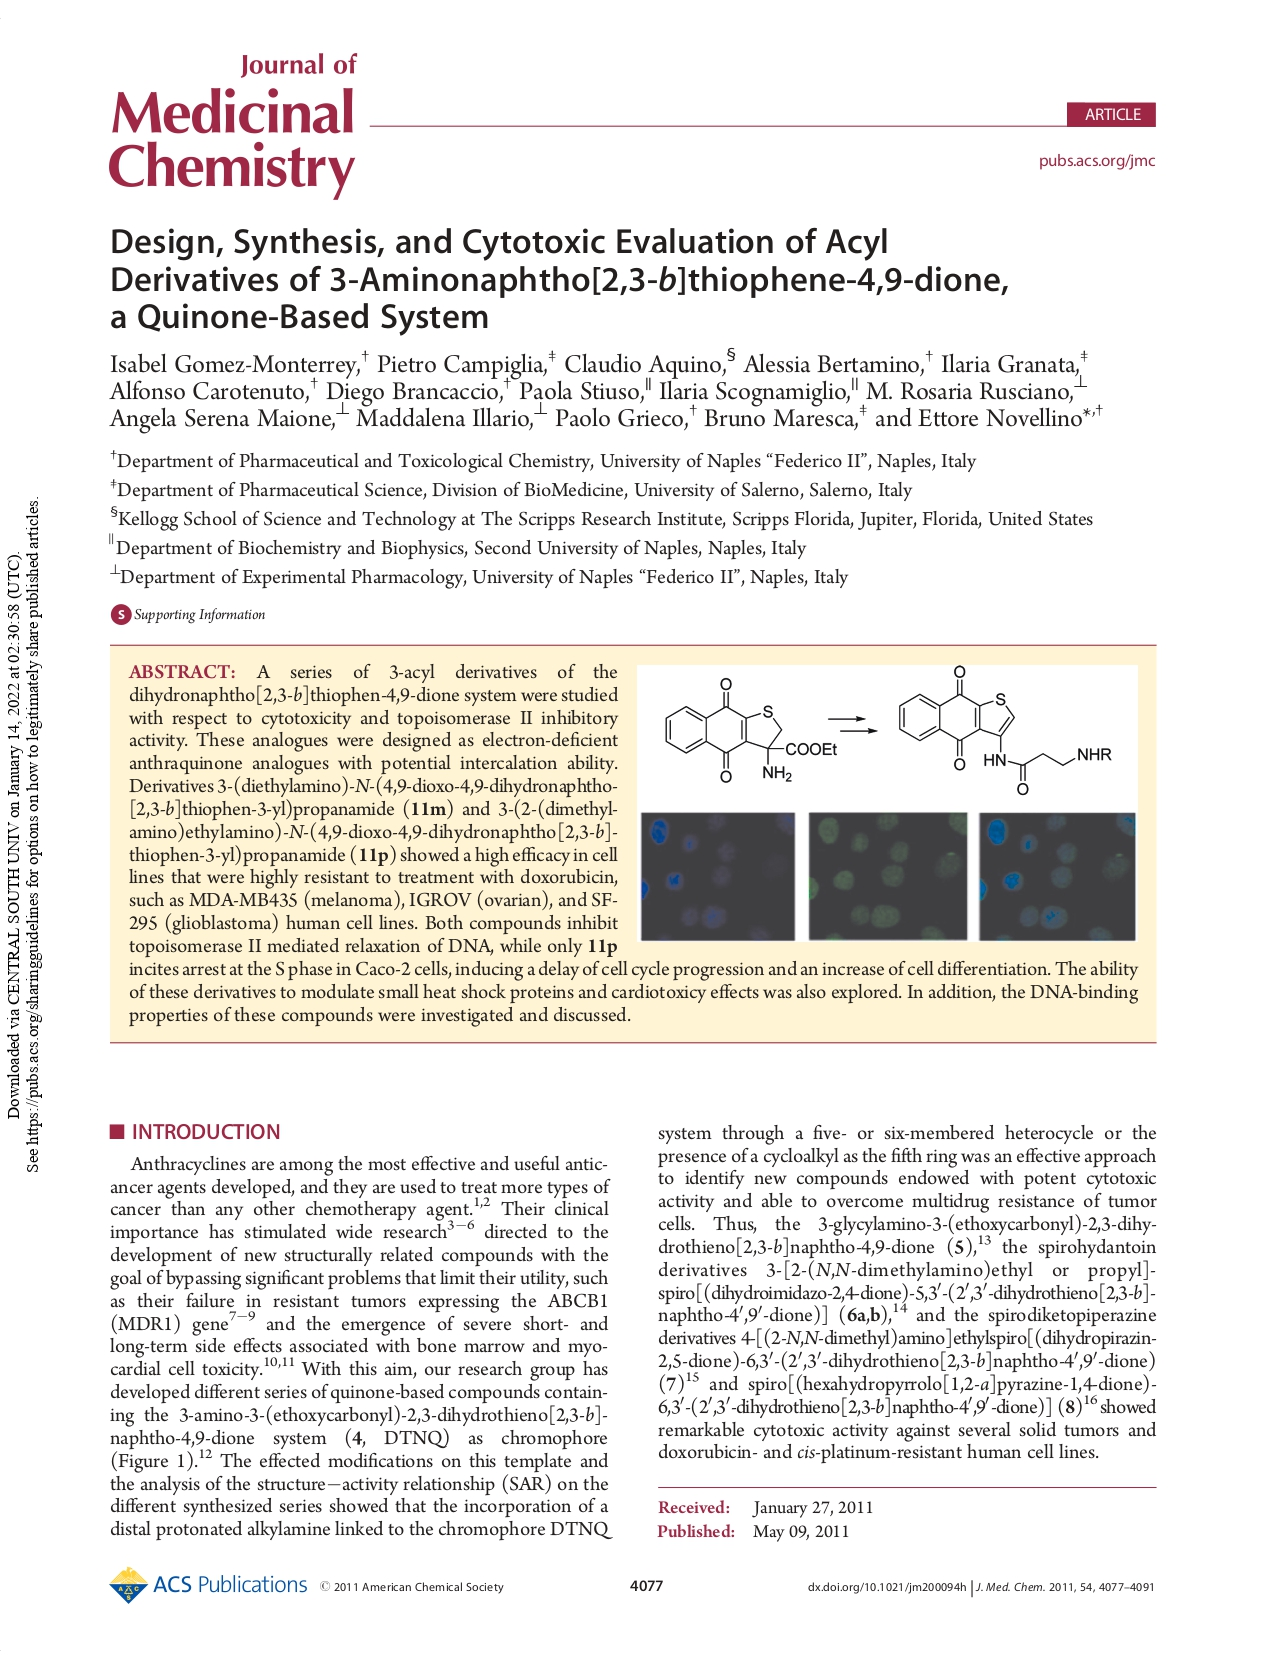exist_molecular: (894, 664, 1117, 799), (661, 674, 838, 786)
